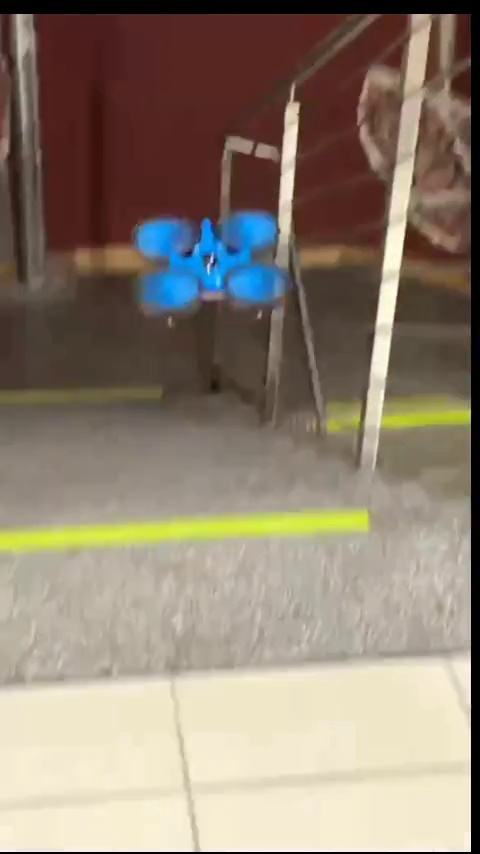drone: (129, 213, 287, 326)
